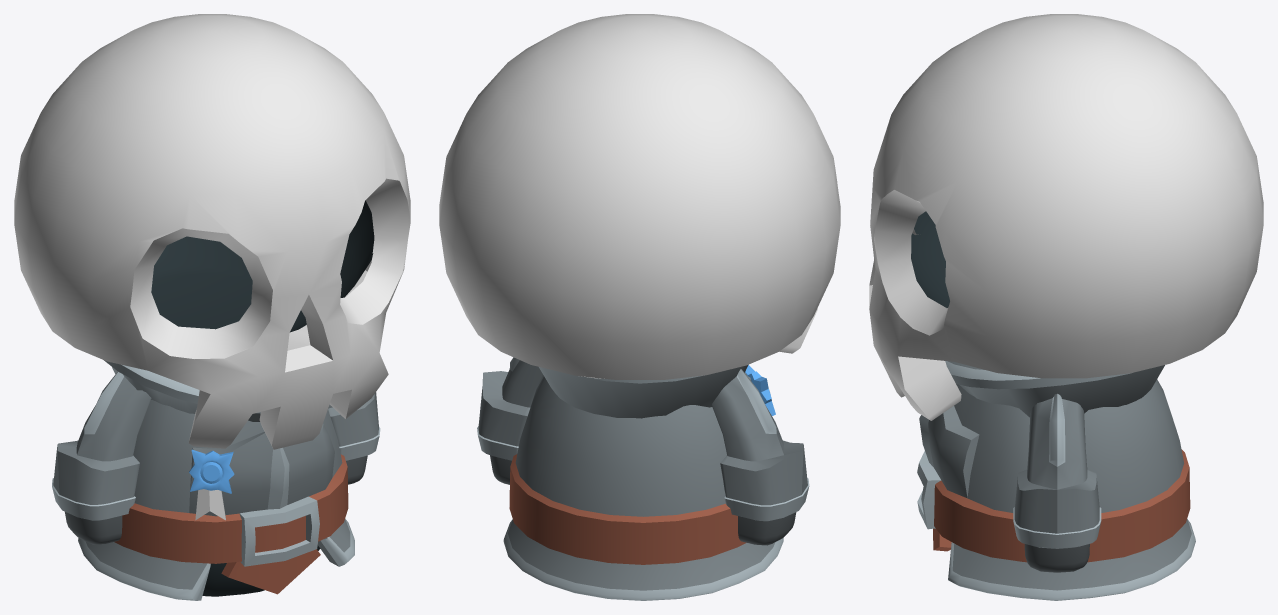
The model's file is Skeleton.fbx.
The picture shows the model from 3 angles, left to right: view 1: azimuth 30°, elevation 25°; view 2: azimuth 150°, elevation 25°; view 3: azimuth 270°, elevation 25°; orthographic projection.
Visible parts, largest first — view 1: skull, character_knightBody, character_knightArmRight, character_knightArmLeft; view 2: skull, character_knightBody, character_knightArmRight, character_knightArmLeft; view 3: skull, character_knightBody, character_knightArmLeft.
Part boxes in pixels (bbox=[...]): skull: bbox=[14, 14, 410, 449]; character_knightBody: bbox=[78, 360, 354, 600]; character_knightArmRight: bbox=[52, 371, 151, 544]; character_knightArmLeft: bbox=[328, 392, 380, 484]; skull: bbox=[439, 14, 840, 379]; character_knightBody: bbox=[503, 364, 783, 600]; character_knightArmRight: bbox=[711, 369, 809, 545]; character_knightArmLeft: bbox=[477, 357, 543, 484]; skull: bbox=[869, 14, 1263, 420]; character_knightBody: bbox=[917, 361, 1195, 600]; character_knightArmLeft: bbox=[1013, 393, 1101, 572].
Size of the model in its own units: 110 by 161 by 109.
